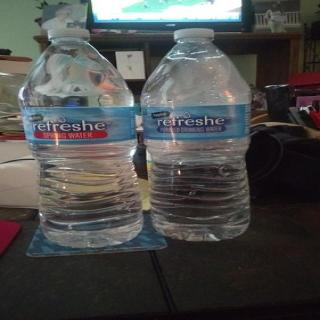Plastic-bottle: (16, 25, 152, 253), (136, 28, 264, 250)
